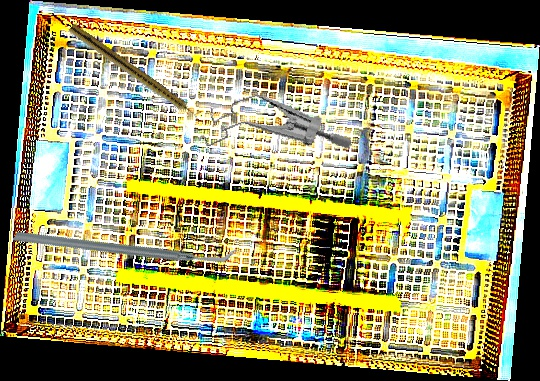Chopper: (12, 150, 237, 340)
Handpiece: (66, 23, 203, 124)
Speculum: (189, 67, 354, 195)
